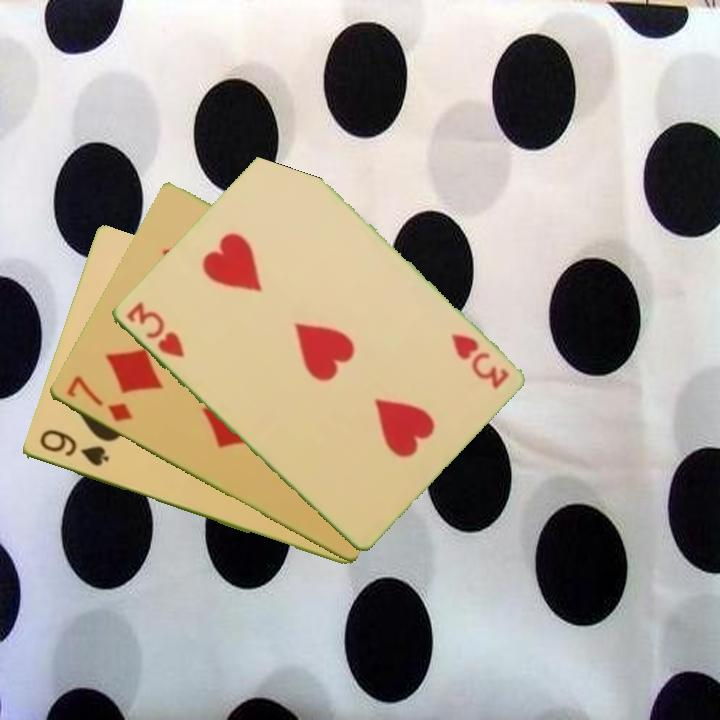3h: (122, 298, 187, 361), (446, 330, 512, 392)
7d: (62, 372, 135, 425)
9s: (35, 426, 112, 470)
